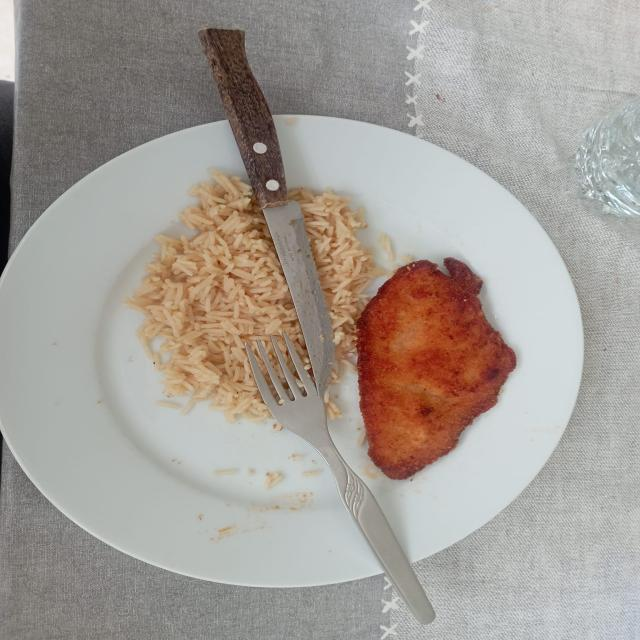breaded: (356, 258, 516, 479)
cup: (574, 97, 640, 216)
fork: (246, 345, 434, 621)
knife: (199, 28, 333, 399)
plate: (0, 121, 382, 587), (276, 115, 582, 561)
rice: (125, 171, 308, 422), (290, 189, 379, 361)
